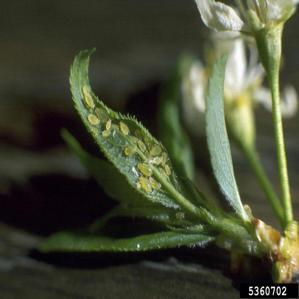Green peach aphid: (64, 48, 184, 211)
